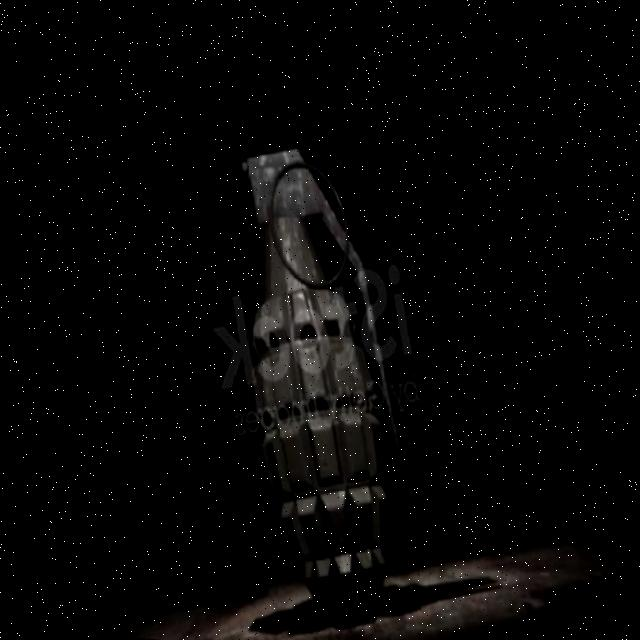grenade: (179, 128, 459, 619)
